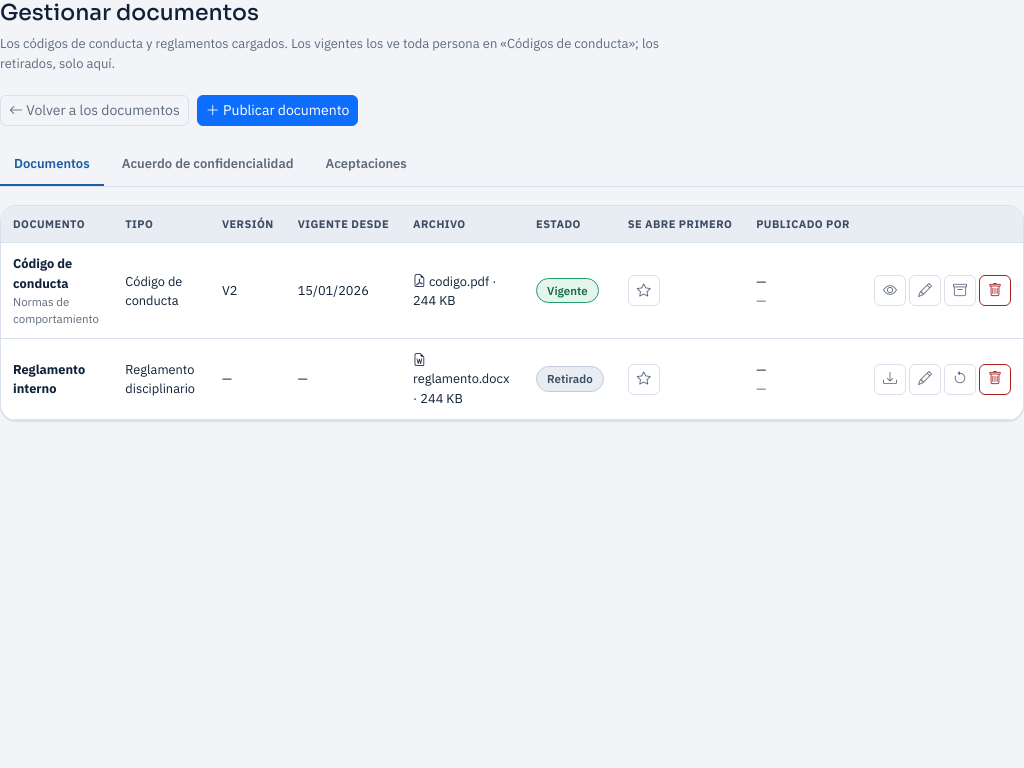
Test: Gestionar documentos › retira y borra
Click the button named "Retirar Código de conducta": click(960, 291) [944, 275, 976, 306]
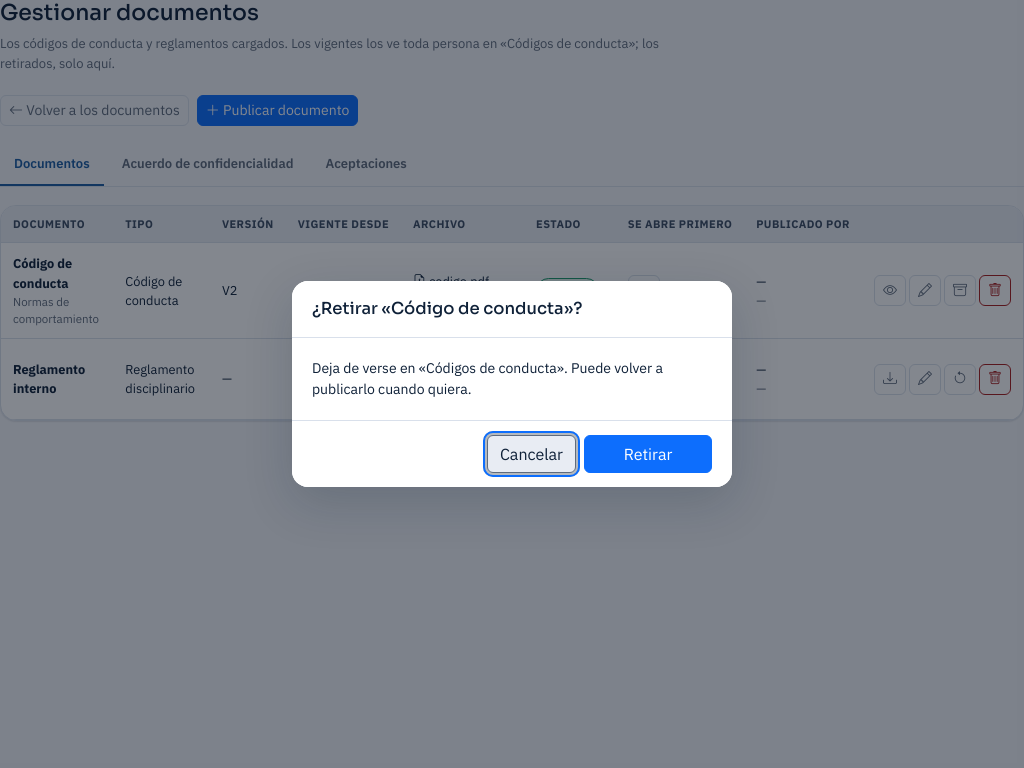
Click the button "Retirar": click(648, 454) [584, 435, 712, 473]
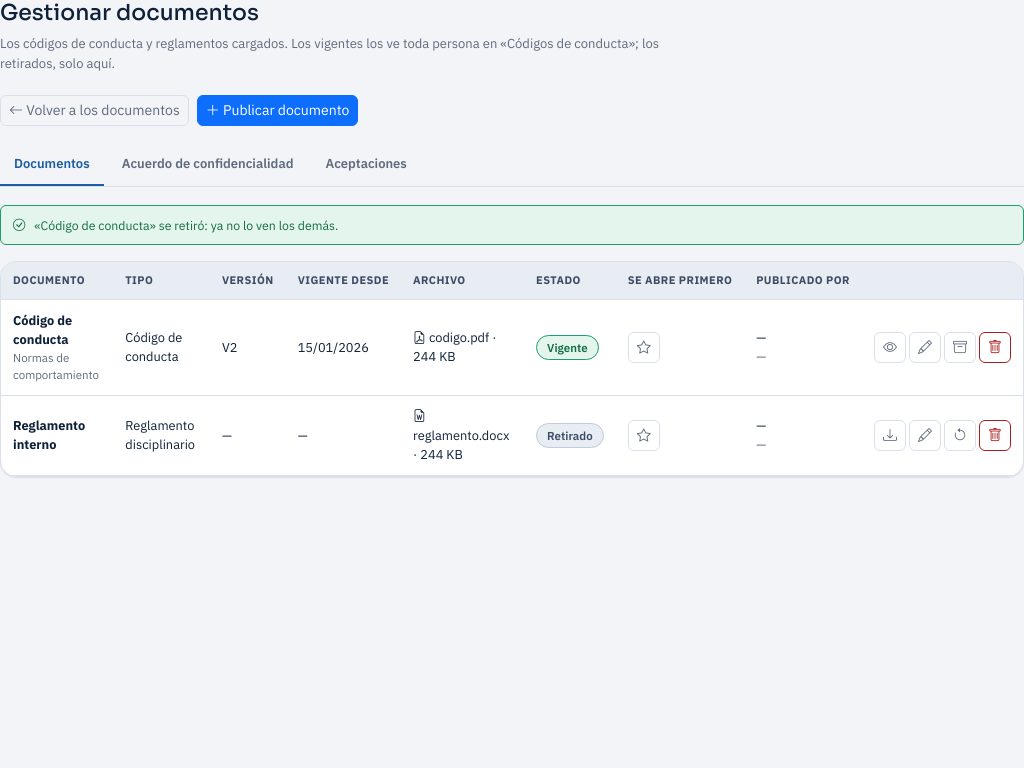
Click the button named "Borrar Reglamento interno": click(995, 436) [979, 420, 1011, 451]
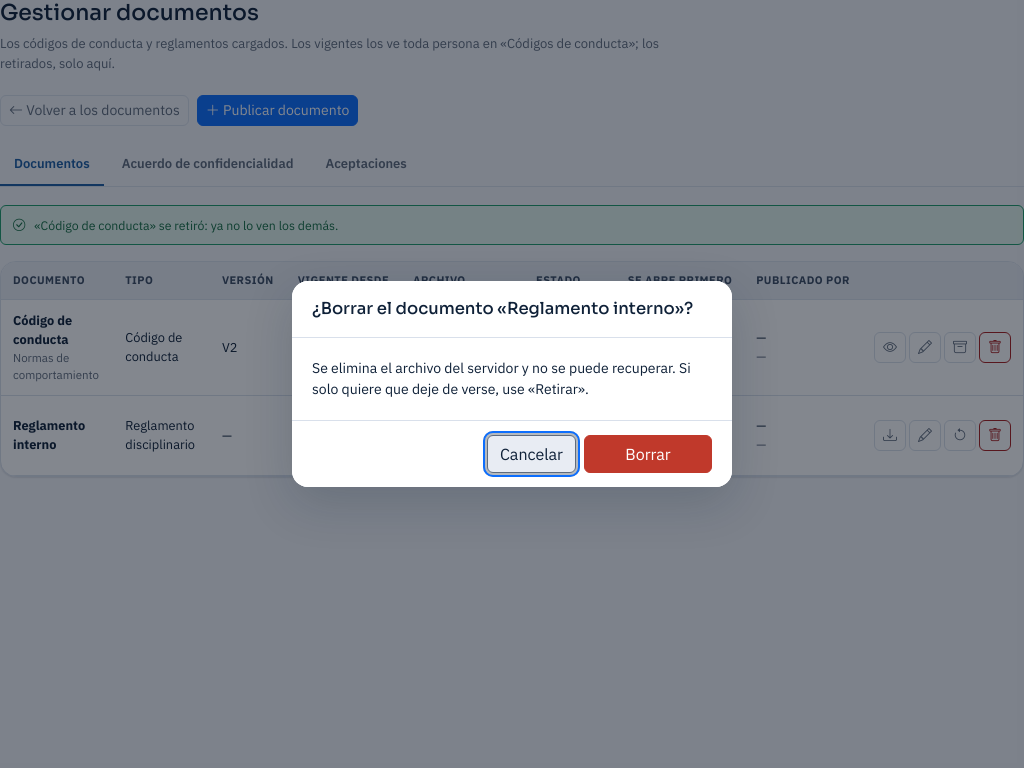
Click the button "Borrar": click(648, 454) [584, 435, 712, 473]
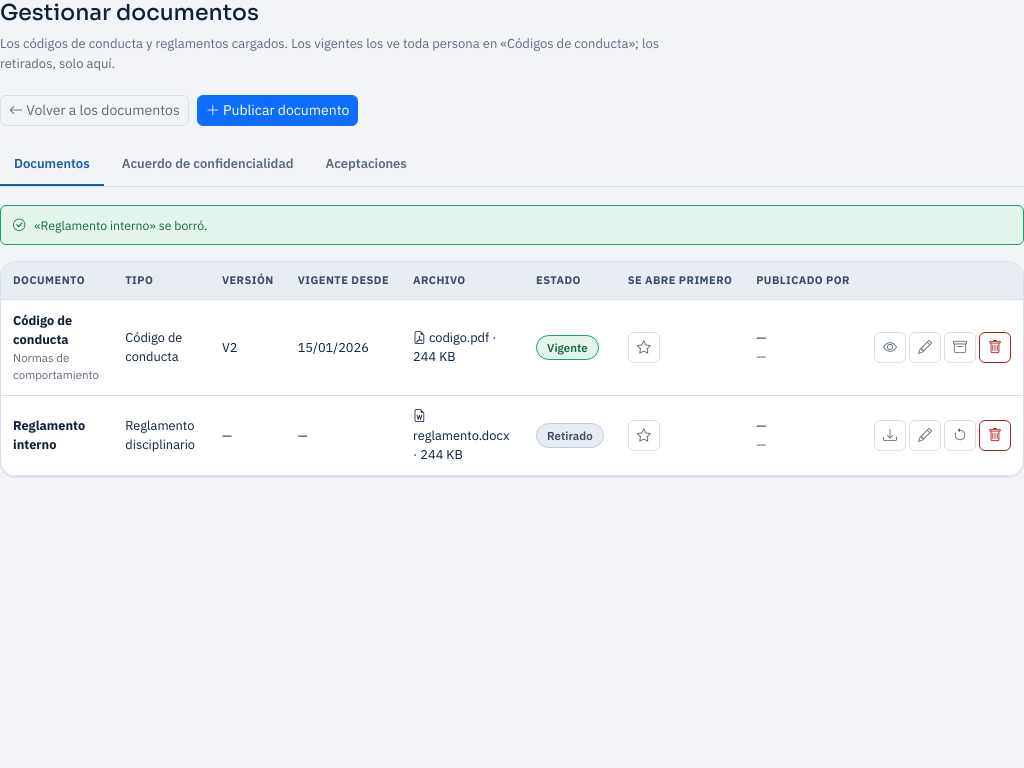
Expected: the text "«Reglamento interno» se borró." is shown, [0, 205, 1023, 245]
